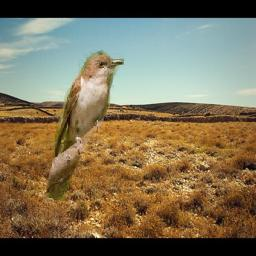Cuckoo: (46, 51, 124, 202)
